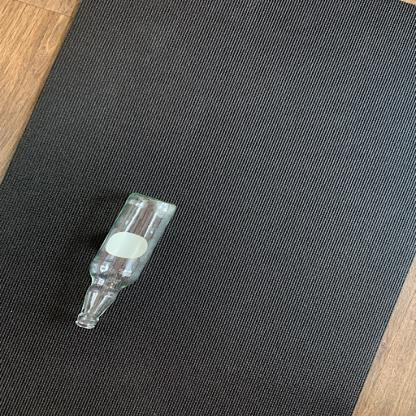trash: (72, 193, 177, 332)
